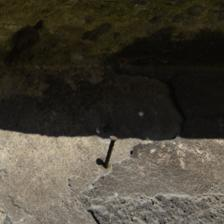Crack: (38, 59, 136, 128), (61, 37, 113, 106)
